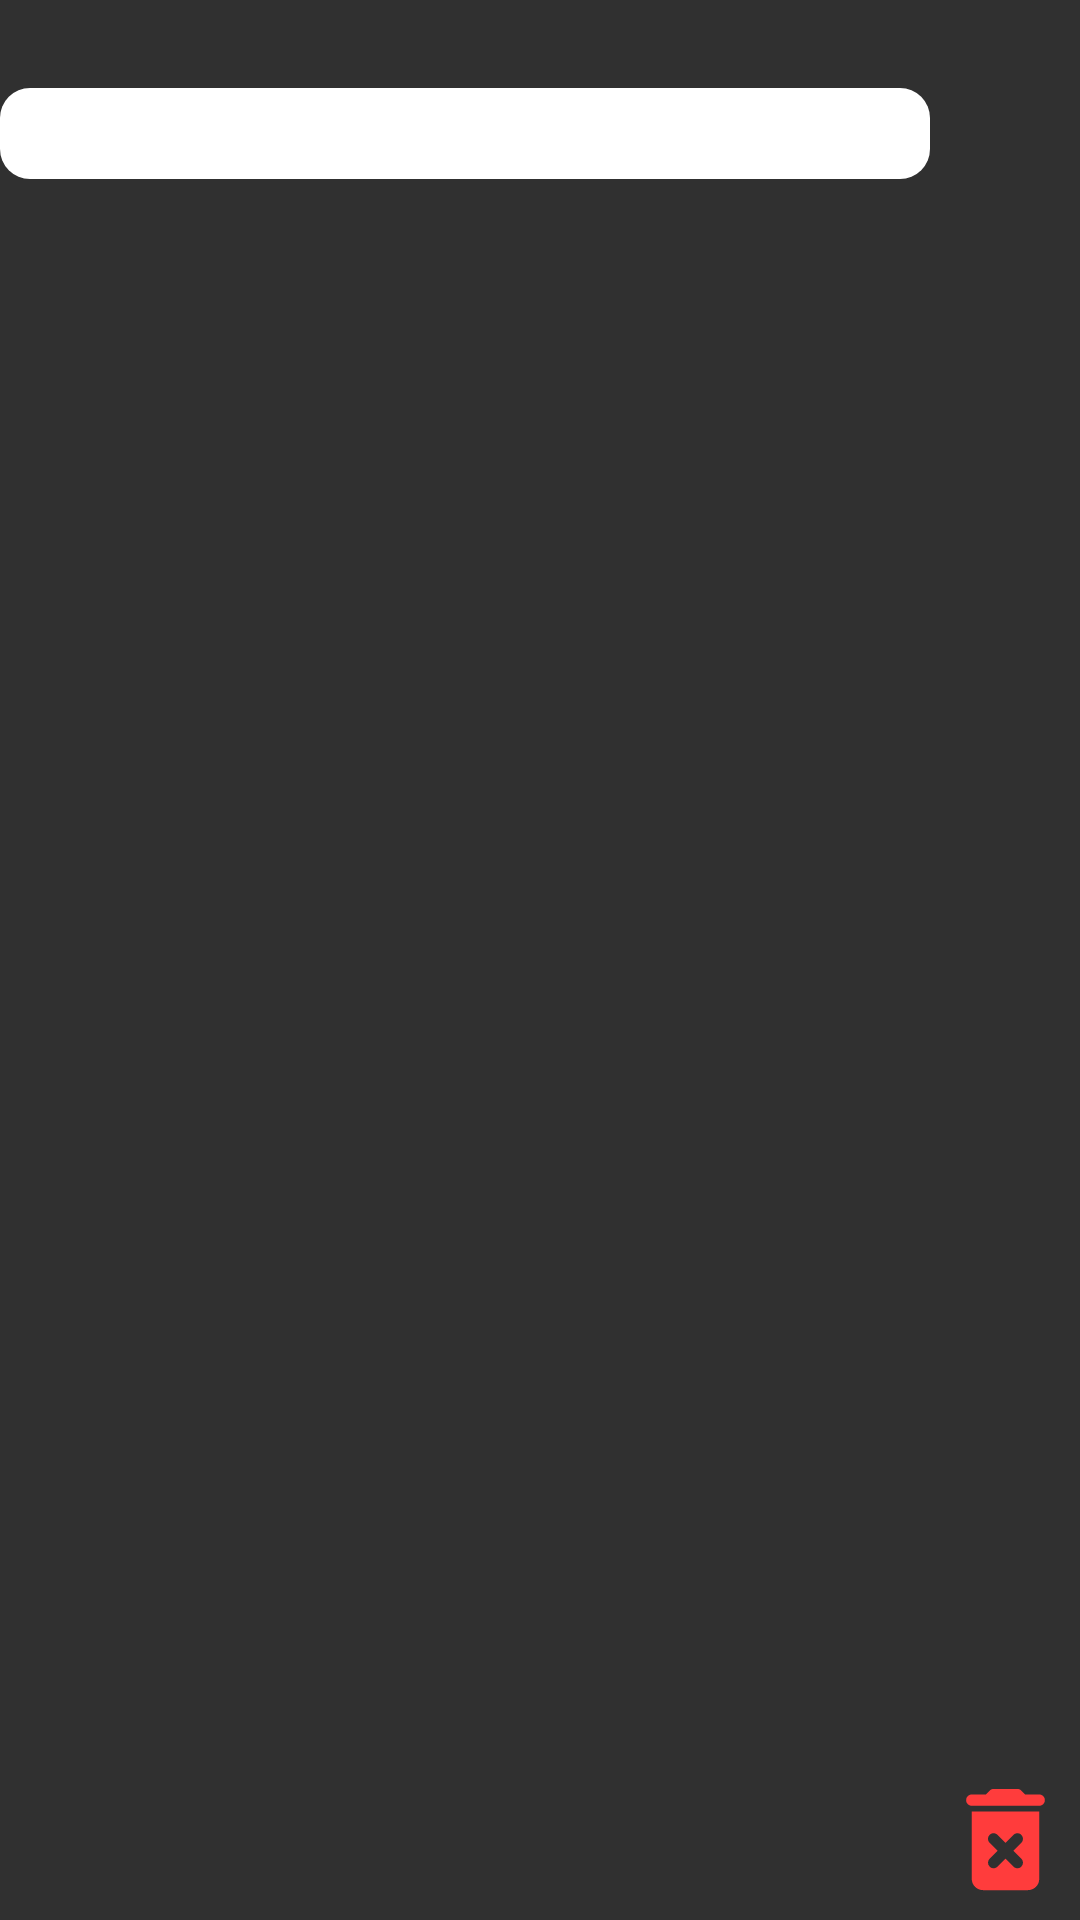

Point at icon controls on the screen. Image size 1080 × 1920, points as point (x, y).
delete: point (1005, 1840)
